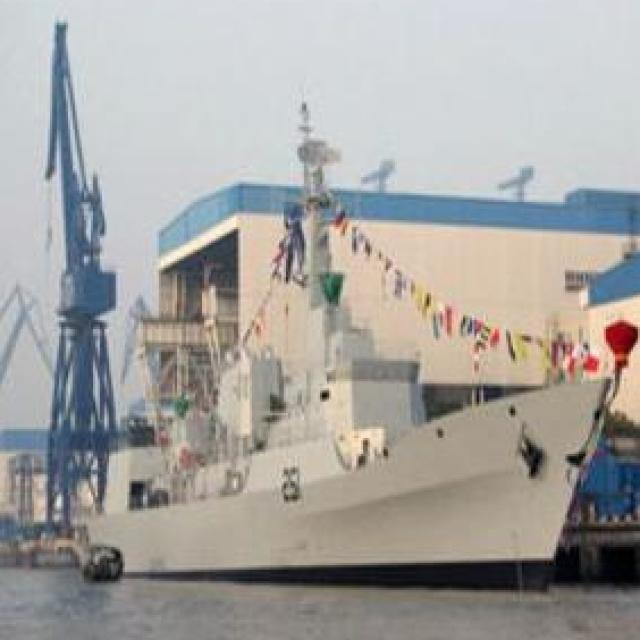navalvessels: (81, 150, 604, 562)
